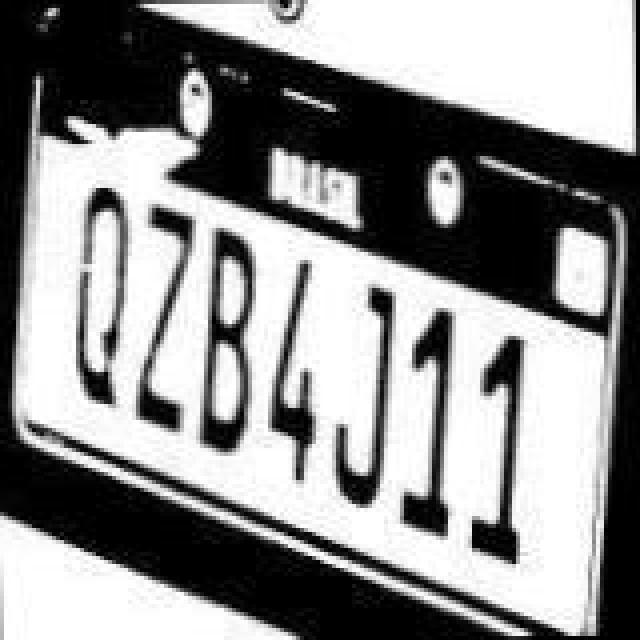1: (462, 310, 546, 562), (398, 298, 466, 546)
4: (266, 246, 326, 514)
B: (196, 226, 264, 466)
J: (330, 270, 406, 514)
Q: (76, 180, 128, 412)
Z: (134, 190, 198, 438)
